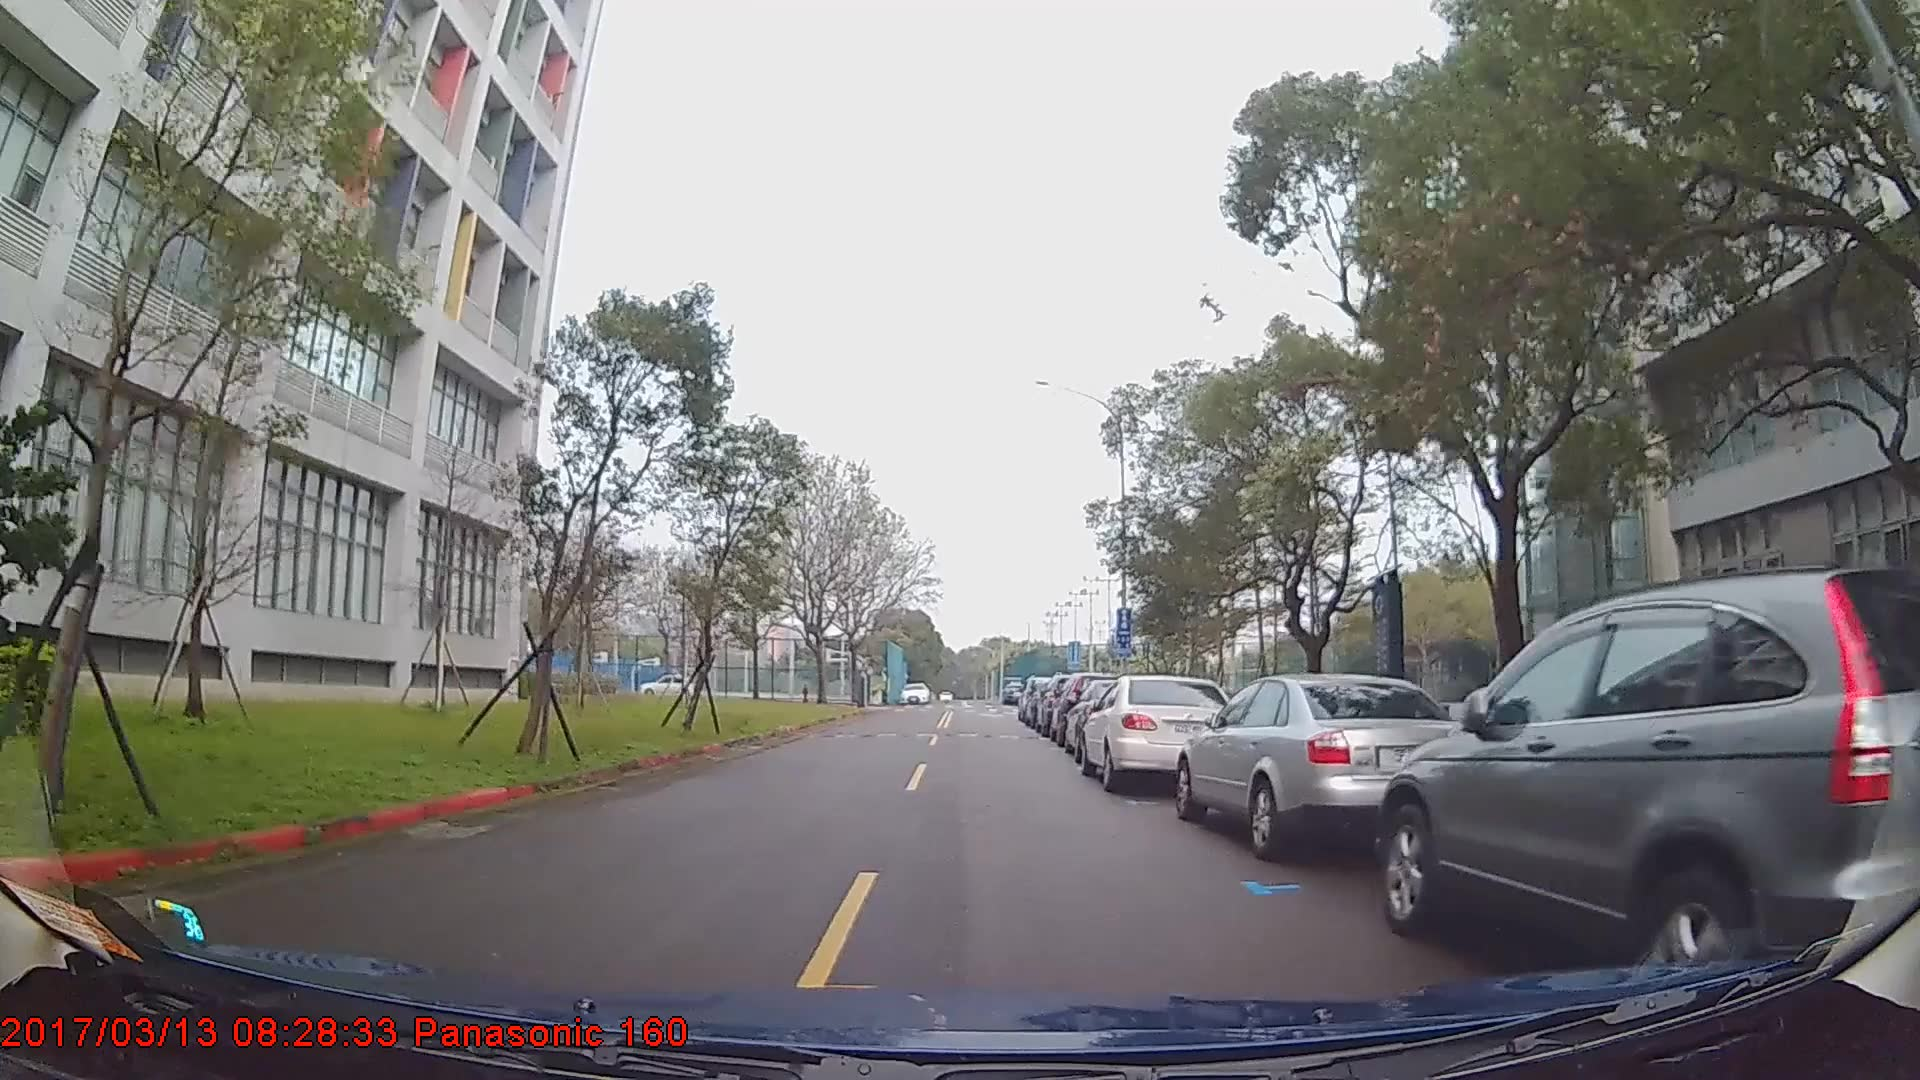vehicle: (1381, 560, 1920, 1005), (1174, 675, 1480, 862), (1077, 674, 1244, 793), (640, 673, 698, 699), (897, 683, 928, 705)
